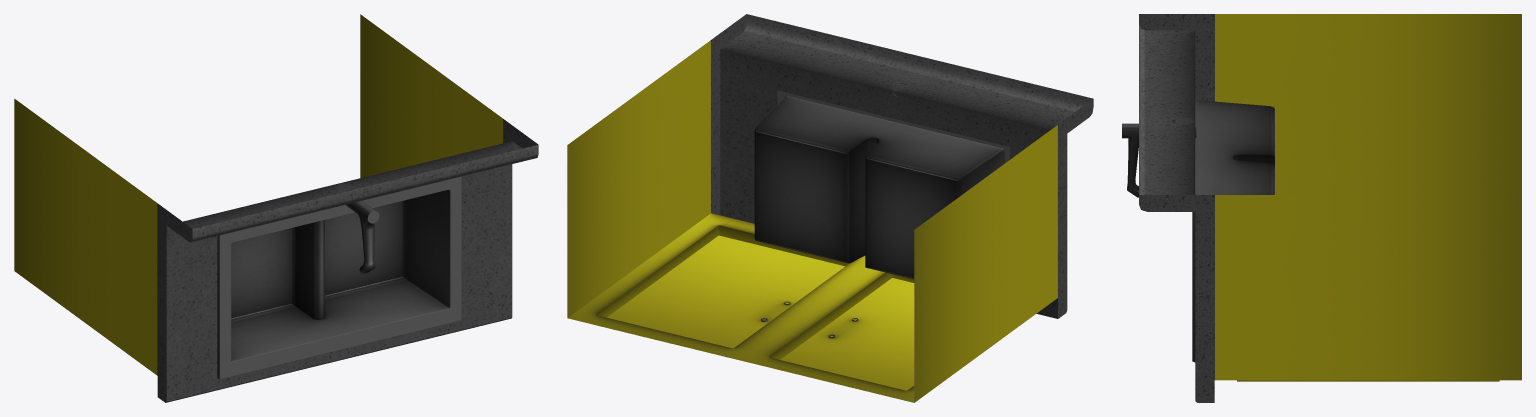
The model's file is counter_sink.obj.
3 views of the same model, side by side, from view 1: azimuth 30°, elevation 25°; view 2: azimuth 150°, elevation 25°; view 3: azimuth 270°, elevation 25° (orthographic). The views are drawn at different scales.
Parts seen in each view (by area): view 1: cafe_counter_sink; view 2: cafe_counter_sink; view 3: cafe_counter_sink.
Boxes of the visible parts, bbox=[...] form: cafe_counter_sink: bbox=[14, 14, 538, 402]; cafe_counter_sink: bbox=[567, 14, 1093, 402]; cafe_counter_sink: bbox=[1122, 14, 1521, 402].
Bounding box in the file's own units: 120 × 65.84 × 112.
1 material, 1 textured.
